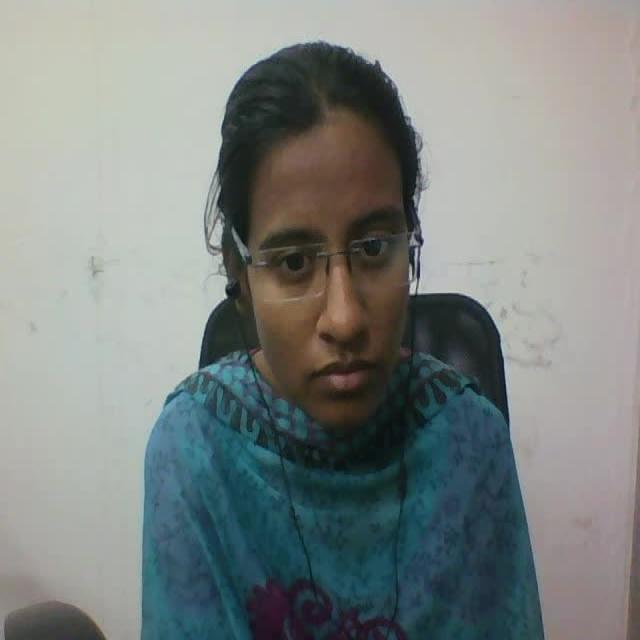Engaged: (187, 28, 463, 456)
